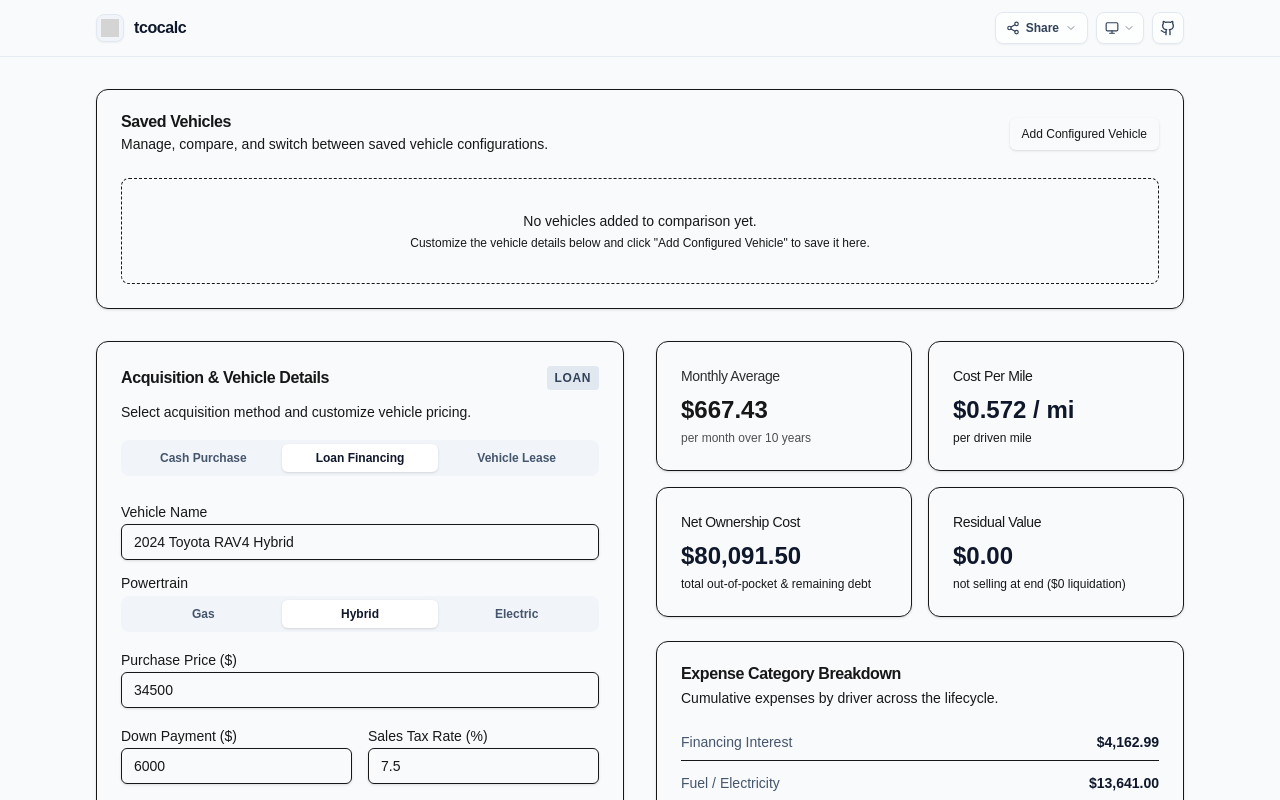
Test: Home Page Component › switches to Vehicle Lease mode and reveals lease-specific inputs
What coordinates should you click on to do the following:
click the button "Vehicle Lease"
I would click on:
 (517, 458)
Its box is [438, 444, 595, 472].
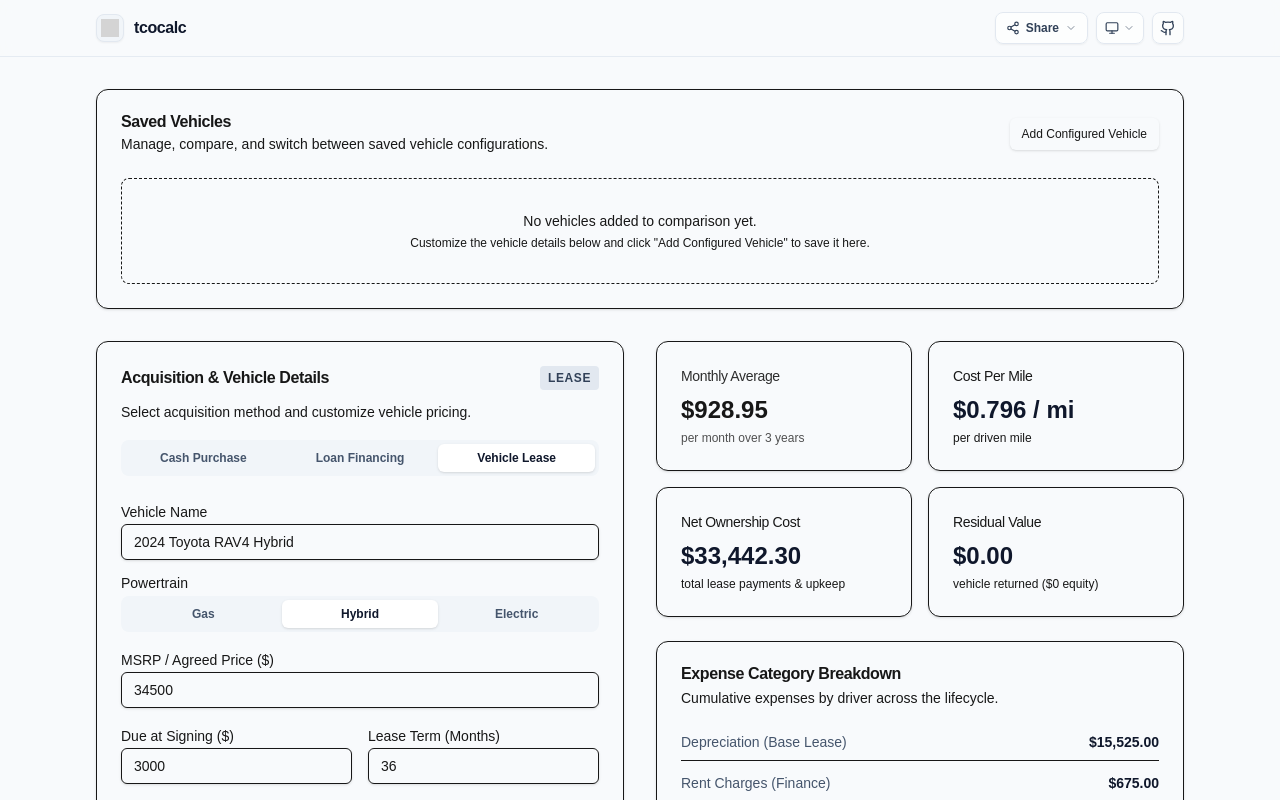
Check: the number field labelled "Due at Signing ($)" is shown, box [121, 748, 352, 784]
Check: the text "vehicle returned ($0 equity)" is shown, box [953, 577, 1098, 591]
